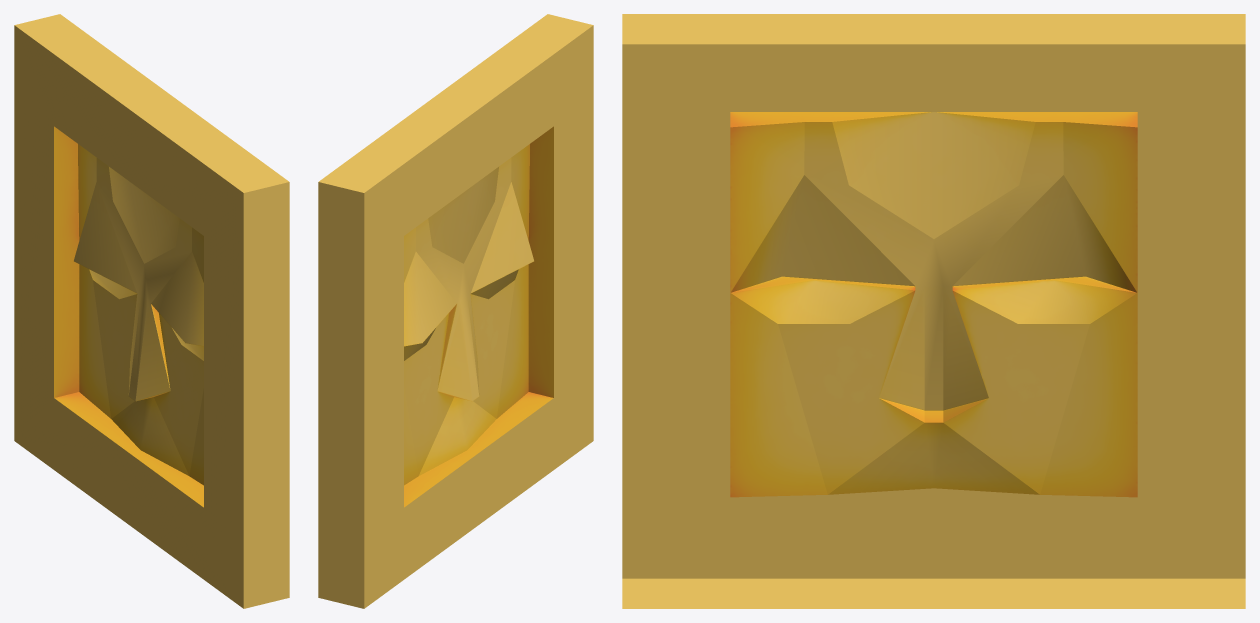
The model's file is door.fbx.
3 views of the same model, side by side, from view 1: azimuth 30°, elevation 25°; view 2: azimuth 150°, elevation 25°; view 3: azimuth 270°, elevation 25° (orthographic). The views are drawn at different scales.
Visible parts, largest first — view 1: door_geo; view 2: door_geo; view 3: door_geo.
Part boxes in pixels (bbox=[...]): door_geo: bbox=[14, 14, 289, 608]; door_geo: bbox=[318, 14, 593, 608]; door_geo: bbox=[622, 14, 1245, 608].
Size of the model in its own units: 80.7 by 700 by 700.
1 material, 1 textured.
